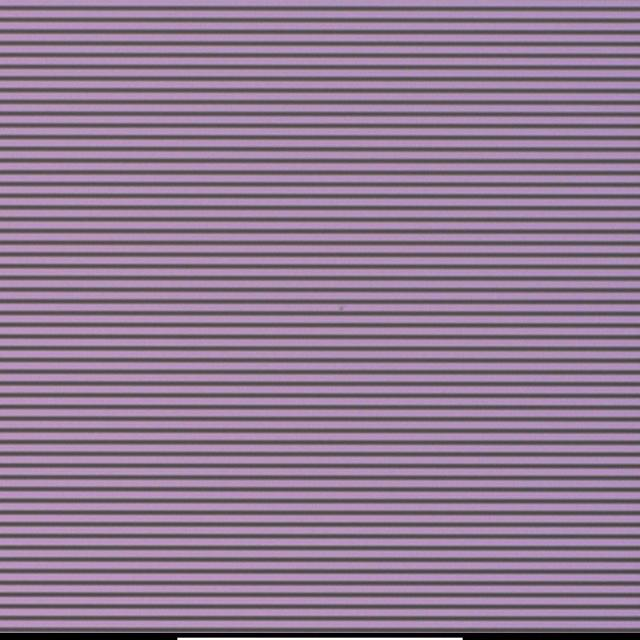nonvisual: (334, 303, 348, 313)
